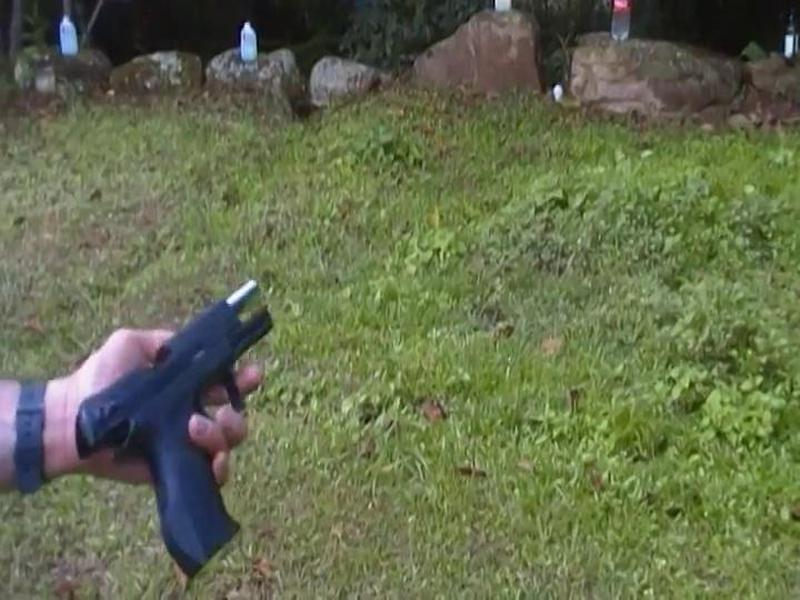Pistola: (60, 278, 308, 566)
